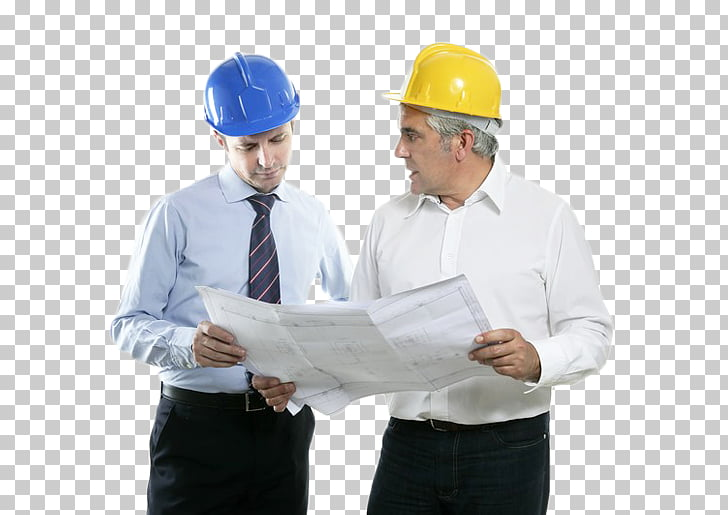casco: (380, 42, 504, 124), (202, 50, 302, 138)
